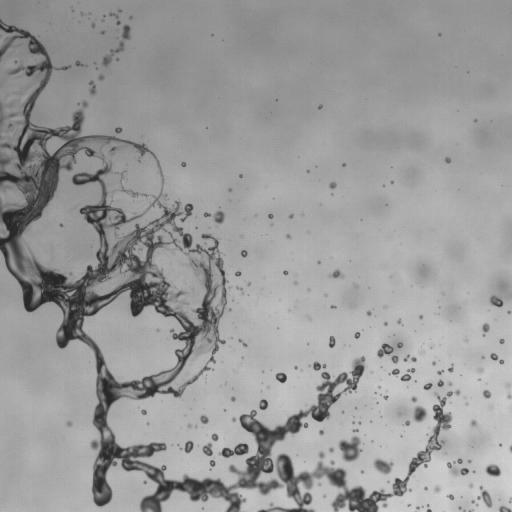droplet: (338, 436, 361, 462), (373, 458, 393, 474), (477, 487, 491, 507), (377, 343, 393, 357), (413, 406, 426, 422), (485, 464, 500, 476), (490, 295, 503, 307), (213, 211, 224, 223), (311, 361, 325, 370), (183, 441, 193, 453), (202, 443, 212, 455), (122, 25, 130, 39), (275, 372, 286, 382), (330, 269, 342, 278), (259, 399, 267, 410), (482, 323, 489, 335), (116, 171, 125, 180), (329, 336, 335, 347), (200, 415, 208, 423), (391, 355, 398, 363), (391, 369, 399, 376), (483, 390, 490, 398), (211, 433, 218, 441), (423, 383, 432, 389), (80, 101, 87, 107), (115, 127, 122, 133), (241, 250, 247, 257), (470, 420, 477, 426), (209, 460, 215, 467), (329, 182, 335, 188), (354, 332, 360, 338), (437, 380, 443, 386), (411, 396, 417, 402), (434, 486, 440, 492), (448, 365, 453, 372), (75, 61, 81, 66), (445, 157, 450, 163), (477, 368, 483, 373), (447, 494, 453, 499), (235, 271, 240, 276), (397, 342, 402, 347), (141, 409, 146, 414), (456, 459, 462, 463), (98, 75, 103, 79), (268, 214, 273, 218), (366, 311, 371, 315), (397, 319, 401, 324), (499, 339, 504, 343), (67, 421, 71, 426), (405, 421, 410, 425), (319, 430, 323, 435), (329, 447, 333, 452), (426, 507, 431, 511), (204, 213, 210, 216), (181, 162, 185, 166), (289, 214, 293, 218), (286, 234, 290, 238), (283, 270, 287, 274), (237, 286, 241, 290), (438, 370, 442, 374), (507, 394, 511, 398), (231, 397, 235, 401), (232, 417, 236, 421), (318, 105, 322, 108), (331, 305, 335, 308), (506, 384, 510, 387), (384, 395, 387, 399), (353, 429, 357, 432), (469, 483, 472, 487), (509, 497, 511, 502), (468, 509, 473, 511), (116, 21, 119, 24), (91, 23, 94, 26), (448, 382, 451, 385), (188, 424, 191, 427), (0, 229, 2, 233), (239, 175, 242, 177), (419, 316, 422, 318), (421, 351, 424, 353), (432, 362, 435, 364), (294, 366, 297, 368), (318, 483, 321, 485), (424, 487, 427, 489), (60, 224, 62, 226), (468, 460, 470, 462), (361, 470, 363, 472), (144, 481, 146, 483), (472, 501, 474, 503), (417, 507, 419, 509)
ligament: (0, 19, 457, 511), (102, 42, 123, 65), (219, 443, 249, 457), (119, 186, 148, 197), (447, 462, 468, 475), (400, 368, 415, 381), (490, 353, 503, 364), (108, 146, 121, 155), (89, 81, 95, 94), (404, 355, 416, 361), (499, 506, 511, 511), (239, 339, 246, 346), (110, 13, 118, 17), (60, 66, 69, 69), (509, 445, 511, 451), (0, 136, 1, 139)
